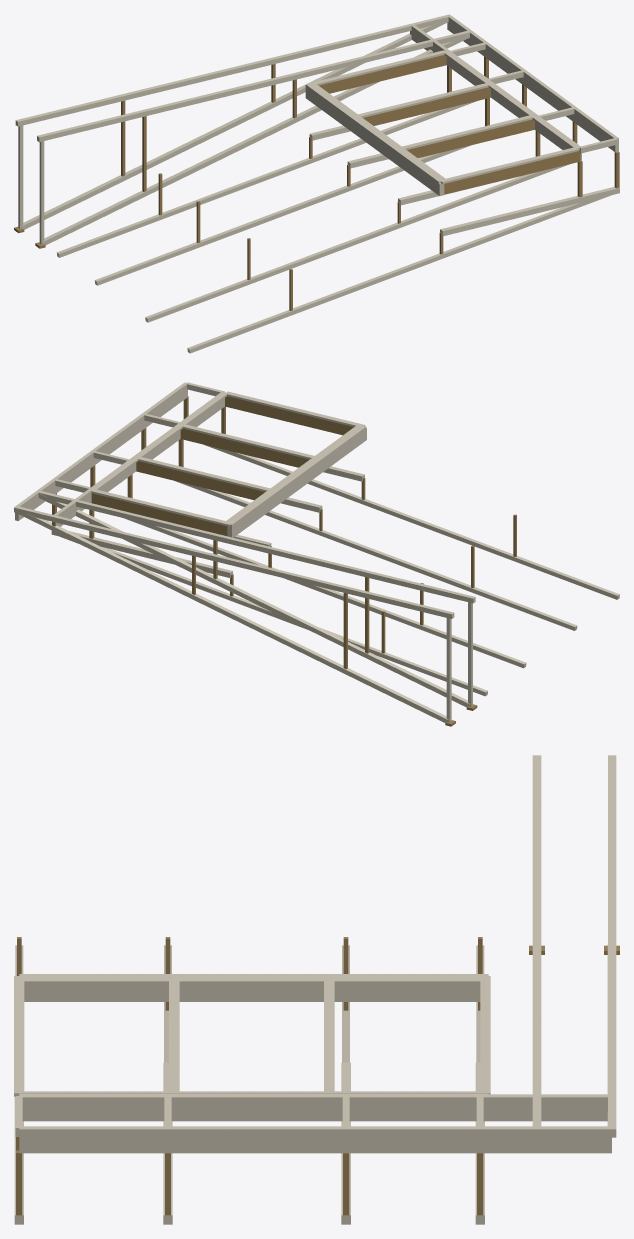
The model's file is receiving_frame.glb.
3 views of the same model, one above another, from view 1: azimuth 30°, elevation 25°; view 2: azimuth 150°, elevation 25°; view 3: azimuth 270°, elevation 25° (orthographic). The views are drawn at different scales.
Parts seen in each view (by area): view 1: RF_ArrivalUpper_0, RF_ArrivalUpper_1, RF_ArrivalDiagonal_0, RF_LowerDiagonal_2, RF_LowerDiagonal_3, RF_LowerDiagonal_0, RF_ArrivalDiagonal_1, RF_StreetBearer_outer, RF_LowerDiagonal_1, RF_StreetBearer_inner, RF_RearBearer, RF_RoomEndWeb_3 (+11 smaller); view 2: RF_ArrivalDiagonal_0, RF_ArrivalUpper_0, RF_ArrivalUpper_1, RF_ArrivalDiagonal_1, RF_LowerDiagonal_3, RF_LowerDiagonal_2, RF_StreetBearer_outer, RF_LowerDiagonal_1, RF_LowerDiagonal_0, RF_StreetBearer_inner, RF_RearBearer, RF_RearBearingCap (+11 smaller); view 3: RF_StreetBearer_outer, RF_StreetBearer_inner, RF_RearBearer, RF_RearBearingCap, RF_ArrivalUpper_1, RF_ArrivalUpper_0, RF_FrontBearingStep, RF_RoomEndCap_3, RF_RoomEndCap_0, RF_RoomEndCap_1, RF_RoomEndCap_2, RF_FrontBearingLip (+1 smaller).
Part boxes in pixels (x1,y1,x2,y2): RF_ArrivalUpper_0: [15, 14, 450, 126]; RF_ArrivalUpper_1: [37, 30, 470, 142]; RF_ArrivalDiagonal_0: [21, 17, 448, 229]; RF_LowerDiagonal_2: [145, 164, 569, 322]; RF_LowerDiagonal_3: [187, 195, 610, 353]; RF_LowerDiagonal_0: [56, 101, 476, 257]; RF_ArrivalDiagonal_1: [42, 33, 469, 244]; RF_StreetBearer_outer: [447, 15, 618, 152]; RF_LowerDiagonal_1: [94, 145, 470, 285]; RF_StreetBearer_inner: [410, 24, 581, 160]; RF_RearBearer: [305, 86, 444, 195]; RF_RoomEndWeb_3: [444, 149, 580, 194]; RF_ArrivalDiagonal_0: [15, 508, 448, 722]; RF_ArrivalUpper_0: [14, 506, 454, 618]; RF_ArrivalUpper_1: [35, 490, 475, 603]; RF_ArrivalDiagonal_1: [38, 493, 469, 707]; RF_LowerDiagonal_3: [205, 445, 619, 599]; RF_LowerDiagonal_2: [175, 481, 577, 630]; RF_StreetBearer_outer: [15, 382, 187, 520]; RF_LowerDiagonal_1: [124, 518, 526, 668]; RF_LowerDiagonal_0: [60, 536, 487, 696]; RF_StreetBearer_inner: [54, 392, 224, 526]; RF_RearBearer: [227, 428, 366, 537]; RF_RearBearingCap: [224, 425, 366, 526]; RF_StreetBearer_outer: [19, 1126, 611, 1153]; RF_StreetBearer_inner: [19, 1094, 611, 1121]; RF_RearBearer: [24, 984, 480, 1001]; RF_RearBearingCap: [19, 974, 488, 984]; RF_ArrivalUpper_1: [532, 755, 541, 1129]; RF_ArrivalUpper_0: [608, 755, 616, 1137]; RF_FrontBearingStep: [19, 1091, 488, 1093]; RF_RoomEndCap_3: [14, 976, 24, 1096]; RF_RoomEndCap_0: [480, 976, 490, 1094]; RF_RoomEndCap_1: [324, 976, 334, 1093]; RF_RoomEndCap_2: [169, 976, 179, 1093]; RF_FrontBearingLip: [19, 1093, 488, 1094].
Bounding box in the file's own units: 42.27 × 10.28 × 28.92.
2 materials, 2 textured.
